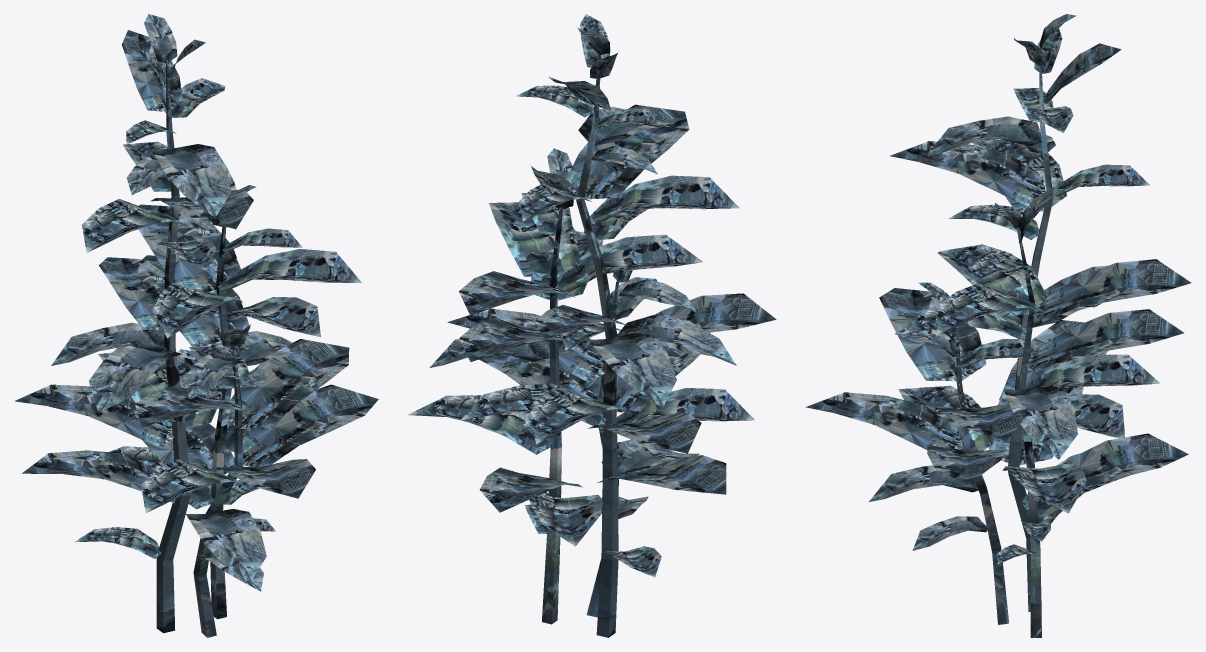
Rendered from futuristic_room_25.obj.
3 renders of one model, left to right at view 1: azimuth 30°, elevation 25°; view 2: azimuth 150°, elevation 25°; view 3: azimuth 270°, elevation 25°, orthographic. The views are drawn at different scales.
Bounding box in the file's own units: 0.5141 × 0.9515 × 0.5601.
